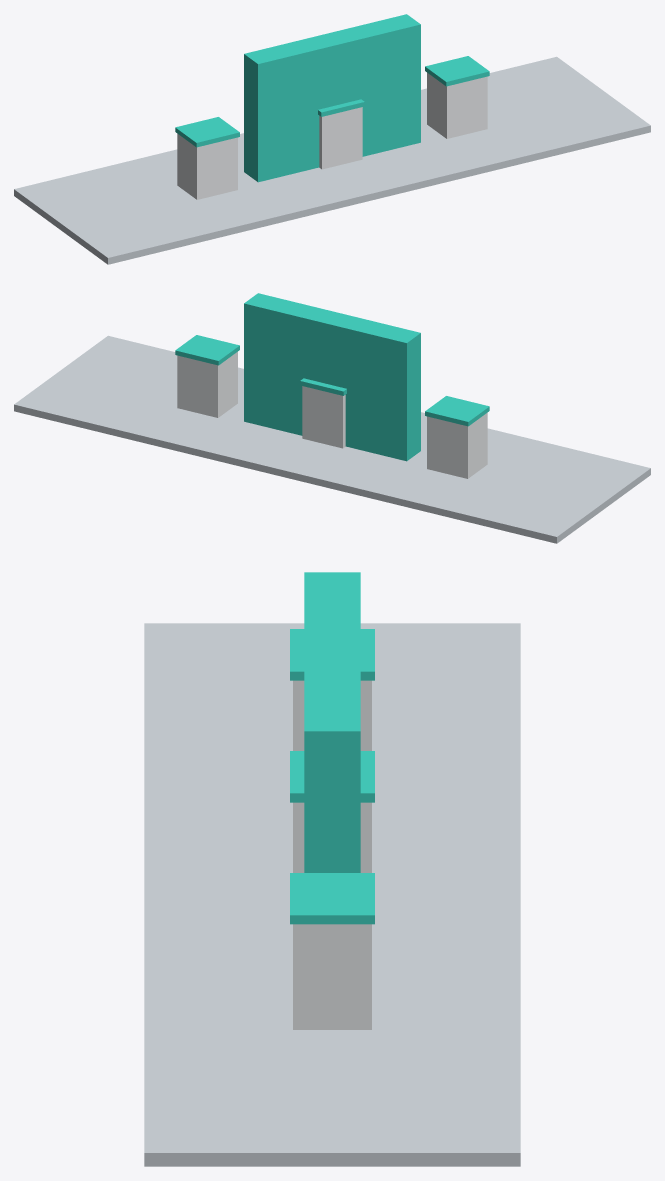
3 renders of one model, top to bottom at view 1: azimuth 30°, elevation 25°; view 2: azimuth 150°, elevation 25°; view 3: azimuth 270°, elevation 25°, orthographic. The views are drawn at different scales.
Visible parts, largest first — view 1: Exhibition Booth Concept; view 2: Exhibition Booth Concept; view 3: Exhibition Booth Concept.
Part boxes in pixels (<box>): Exhibition Booth Concept: <box>14,14,650,264</box>; Exhibition Booth Concept: <box>14,293,650,543</box>; Exhibition Booth Concept: <box>144,572,520,1166</box>.
Size of the model in its own units: 10 by 2.2 by 3.
